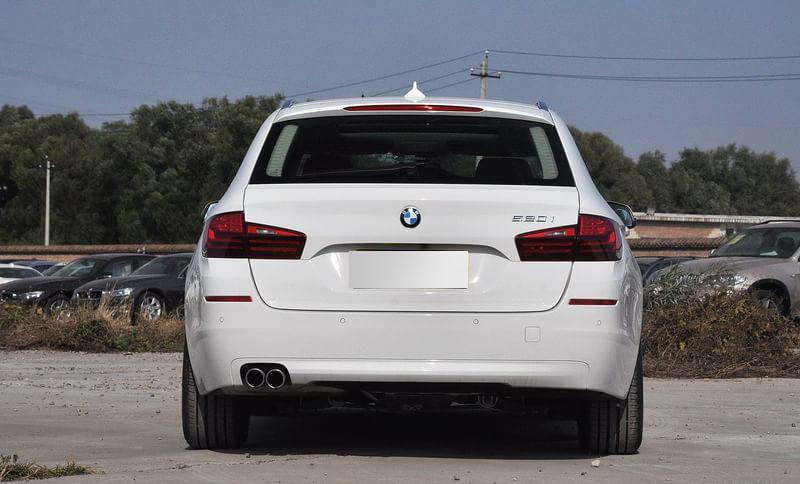Wagon: (179, 79, 645, 454)
